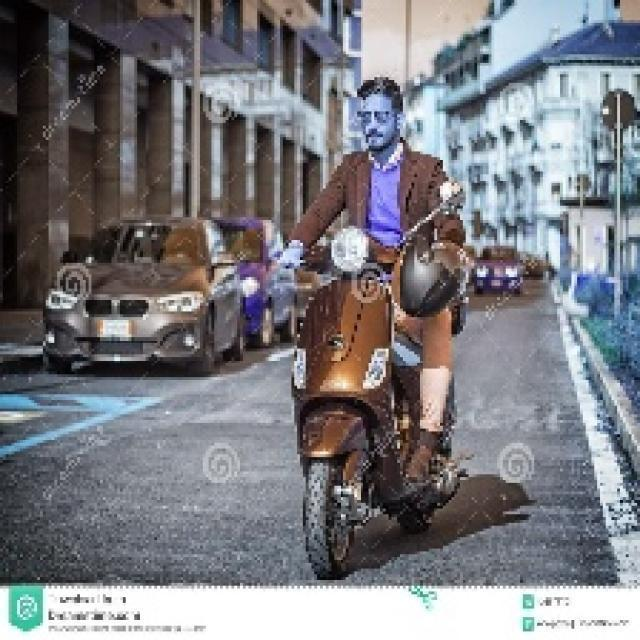bike: (292, 220, 435, 580)
